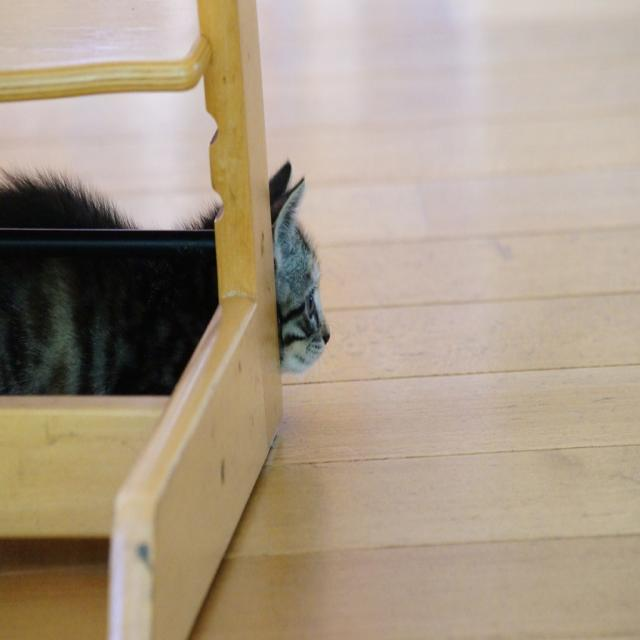Cat: (0, 156, 332, 397)
